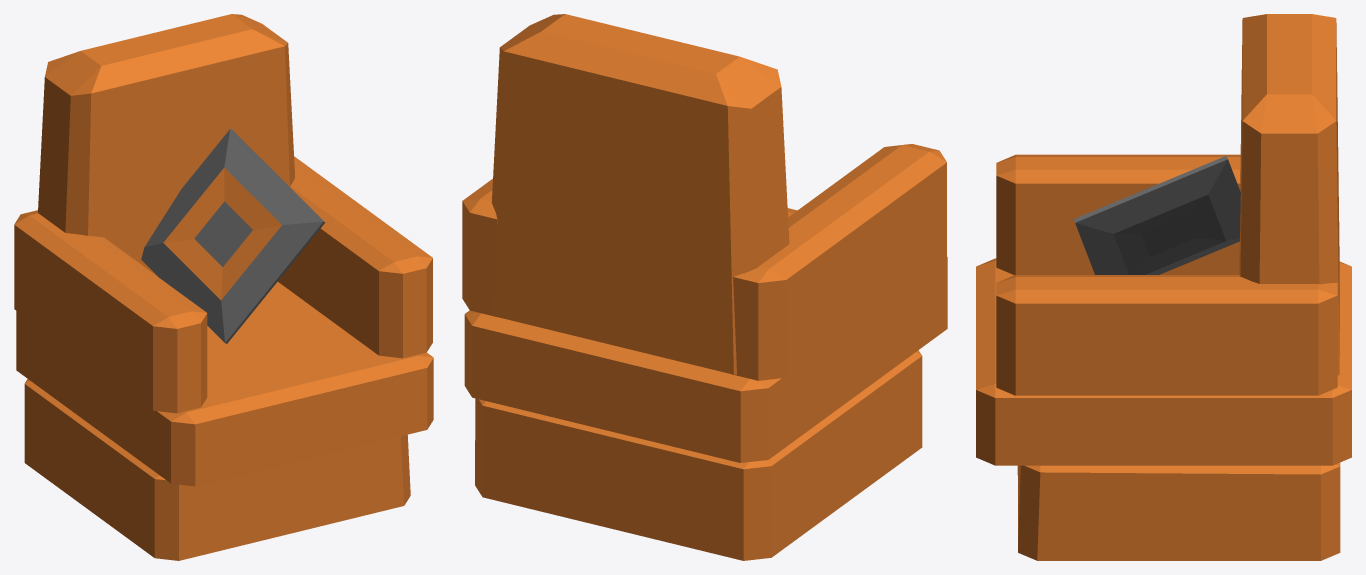
File: Pillow02.fbx
The picture shows the model from 3 angles, left to right: view 1: azimuth 30°, elevation 25°; view 2: azimuth 150°, elevation 25°; view 3: azimuth 270°, elevation 25°; orthographic projection. The views are drawn at different scales.
Parts seen in each view (by area): view 1: Pillow02; view 2: Pillow02; view 3: Pillow02.
Part boxes in pixels (box(x1,y1,x2,y2)): Pillow02: box(14, 14, 433, 560); Pillow02: box(462, 14, 947, 560); Pillow02: box(976, 14, 1351, 560).
Size of the model in its own units: 0.6449 by 0.6881 by 0.8973.
